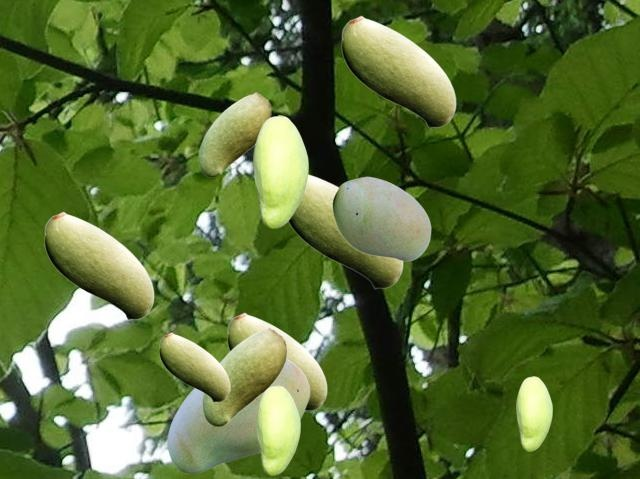green_mango: (167, 358, 309, 472), (288, 174, 402, 288), (341, 15, 455, 127), (44, 211, 153, 319), (227, 312, 326, 410), (332, 176, 430, 260), (202, 327, 286, 425), (198, 92, 270, 176), (253, 115, 307, 227), (159, 332, 229, 401), (256, 385, 299, 474), (516, 376, 551, 450)
